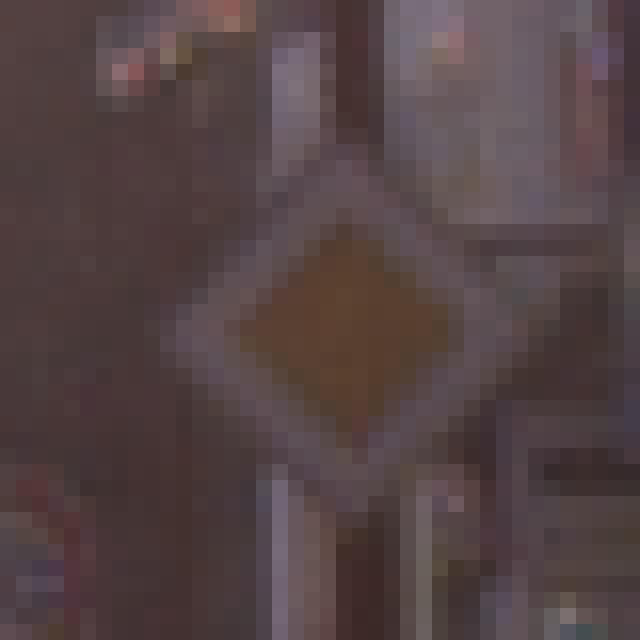Main Road: (97, 97, 561, 561)
